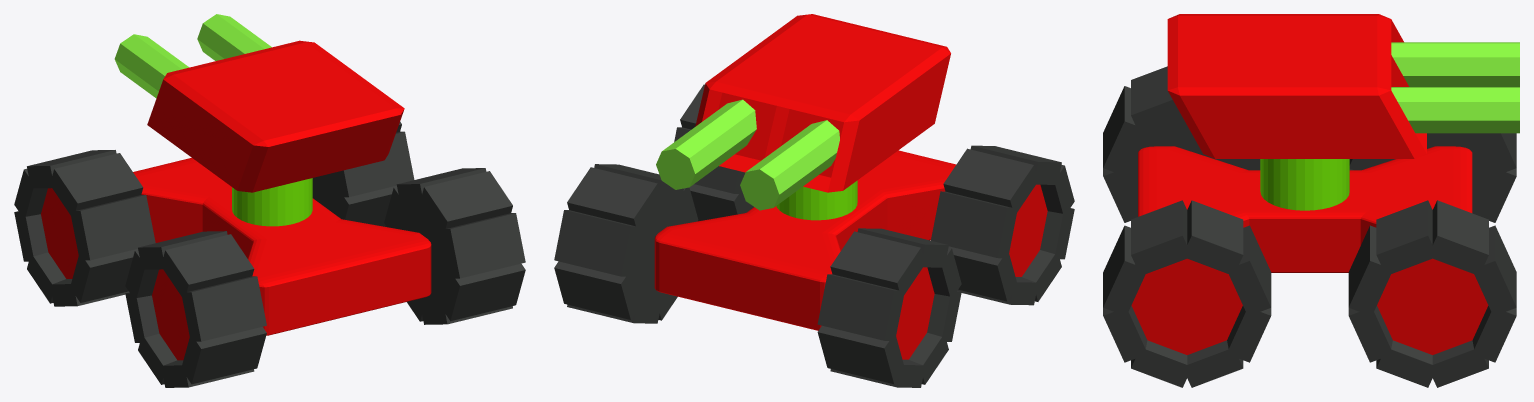
Rendered from Tank002-red.glb.
3 renders of one model, left to right at view 1: azimuth 30°, elevation 25°; view 2: azimuth 150°, elevation 25°; view 3: azimuth 270°, elevation 25°, orthographic. The views are drawn at different scales.
Visible parts, largest first — view 1: TurretBody, Cube, WheelRL, WheelFL, WheelRR, WheelFR, Muzzle, Cylinder; view 2: TurretBody, Cube, WheelFL, WheelRL, WheelFR, Muzzle, WheelRR, Cylinder; view 3: TurretBody, WheelRR, WheelFR, Cube, Muzzle, WheelRL, WheelFL, Cylinder.
Boxes of the visible parts, left/top/right/bottom form: TurretBody: left=147, top=40, right=404, bottom=192; Cube: left=133, top=157, right=431, bottom=335; WheelRL: left=125, top=231, right=266, bottom=387; WheelFL: left=14, top=150, right=155, bottom=306; WheelRR: left=384, top=168, right=525, bottom=324; WheelFR: left=312, top=121, right=414, bottom=226; Muzzle: left=114, top=14, right=271, bottom=98; Cylinder: left=232, top=178, right=312, bottom=226; TurretBody: left=695, top=14, right=950, bottom=192; Cube: left=654, top=150, right=956, bottom=330; WheelFL: left=817, top=228, right=961, bottom=387; WheelRL: left=931, top=145, right=1074, bottom=305; WheelFR: left=554, top=164, right=698, bottom=323; Muzzle: left=656, top=99, right=839, bottom=210; WheelRR: left=674, top=84, right=753, bottom=221; Cylinder: left=776, top=180, right=857, bottom=220; TurretBody: left=1167, top=14, right=1426, bottom=158; WheelRR: left=1103, top=200, right=1271, bottom=387; WheelFR: left=1348, top=200, right=1516, bottom=387; Cube: left=1138, top=146, right=1472, bottom=272; Muzzle: left=1391, top=42, right=1519, bottom=133; WheelRL: left=1103, top=66, right=1260, bottom=222; WheelFL: left=1349, top=133, right=1516, bottom=222; Cylinder: left=1260, top=159, right=1349, bottom=210.
Bounding box in the file's own units: 2.58 × 1.71 × 2.59.
Materials: 5 (5 with a texture image).
